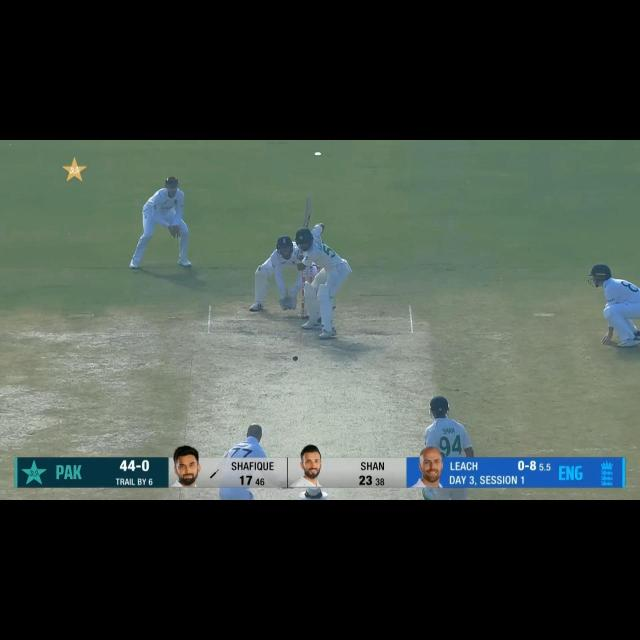bat: (301, 196, 313, 202)
toe: (302, 195, 312, 228)
